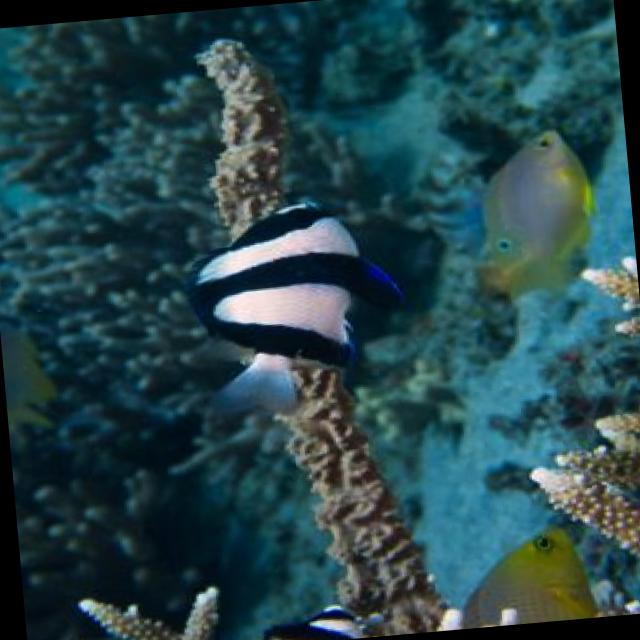ThreeStripedDamselfish: (187, 201, 407, 412)
